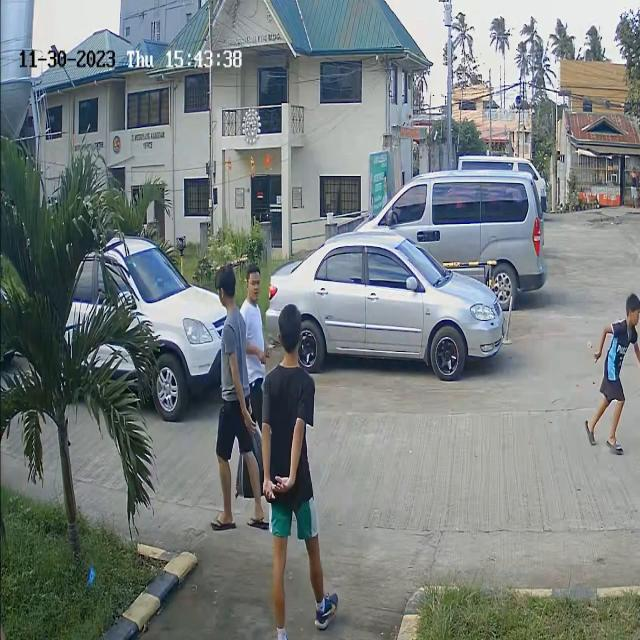person: (589, 281, 640, 444), (265, 305, 312, 470), (210, 262, 245, 380), (244, 266, 266, 336)
